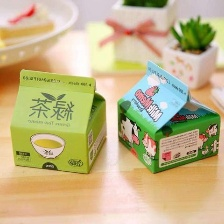carton: (109, 57, 221, 177), (0, 67, 111, 176)
